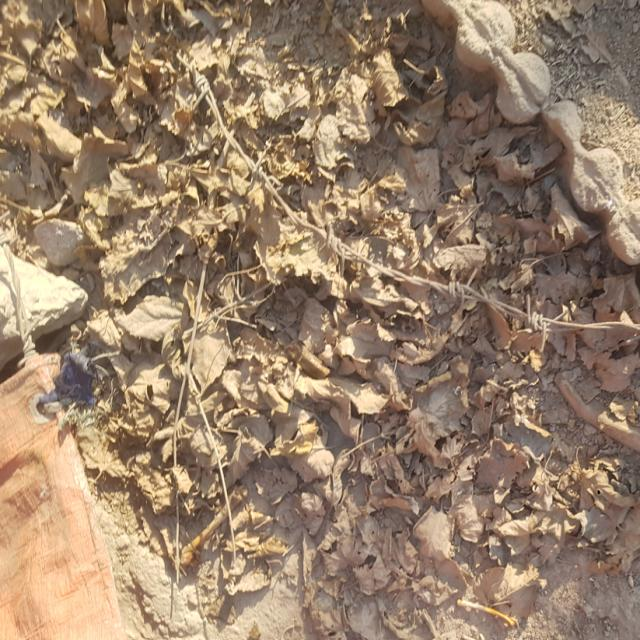paper: (294, 281, 398, 362), (75, 117, 130, 185), (397, 496, 456, 558), (356, 46, 411, 110), (183, 315, 227, 392), (283, 423, 336, 486), (112, 289, 175, 339), (313, 114, 352, 170)
